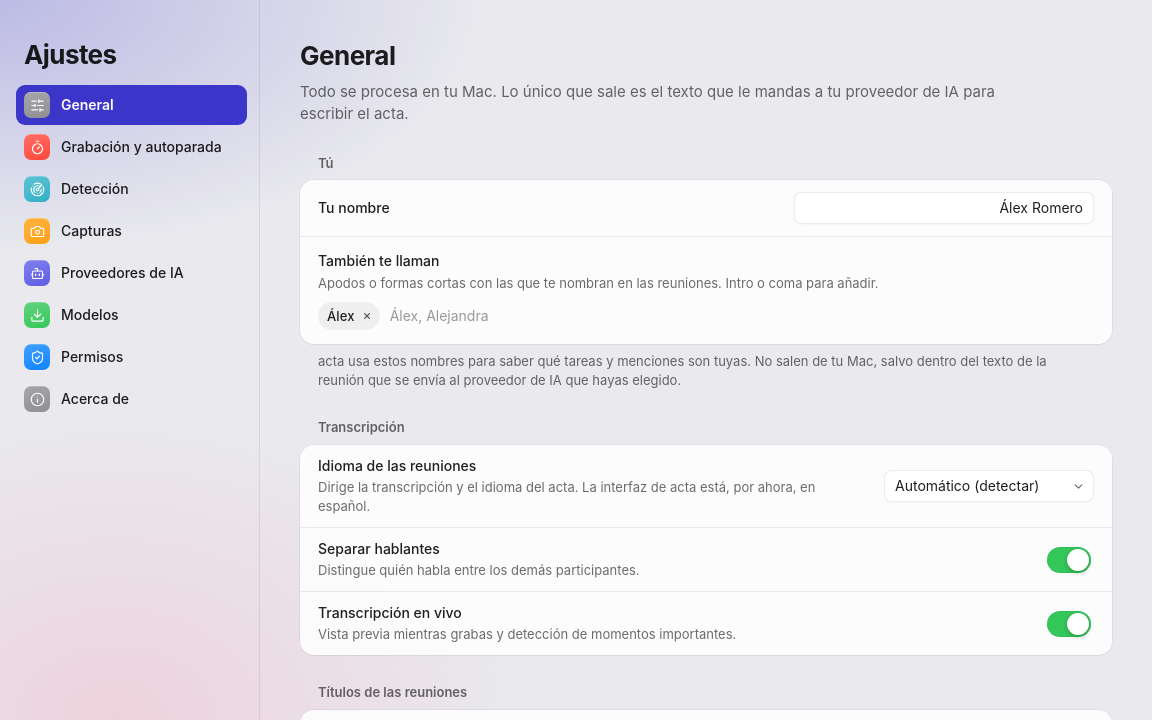
Test: SettingsContainer › la barra de guardado solo aparece cuando hay cambios
The image size is (1152, 720).
Click the button "Capturas" at (132, 231), box [16, 211, 247, 251]
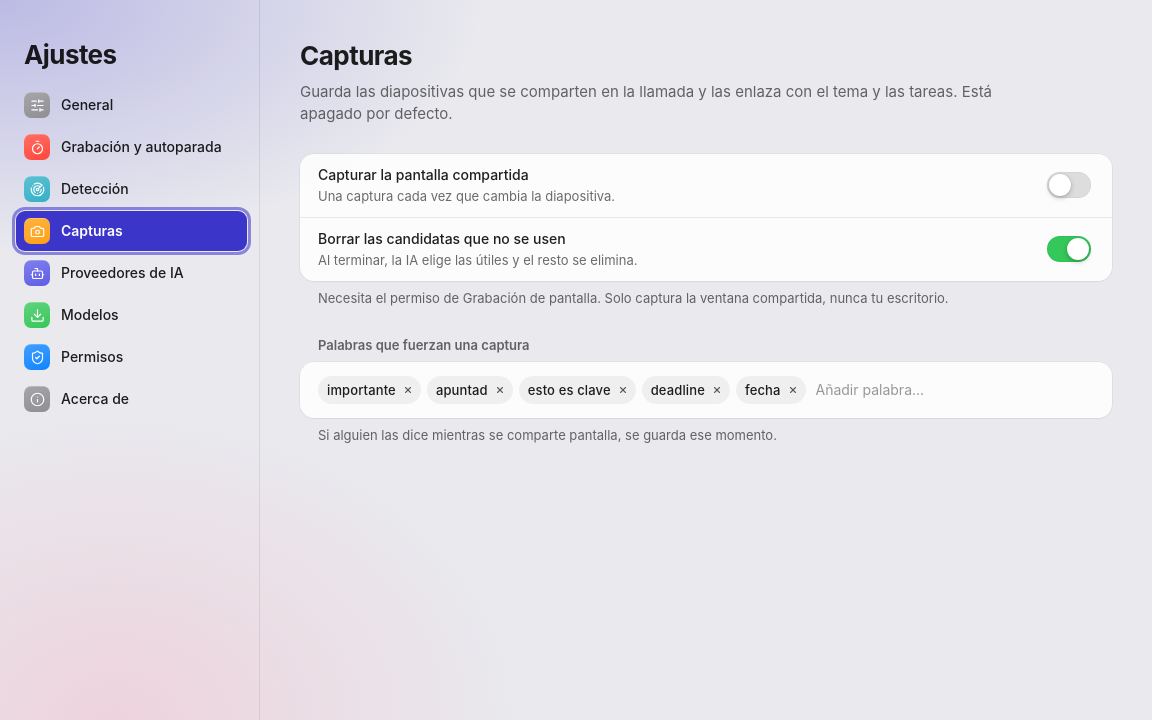
Expected: the button "Guardar cambios" is not shown
Click the checkbox labelled "Capturar la pantalla compartida" at (1069, 185), box [1047, 172, 1091, 198]
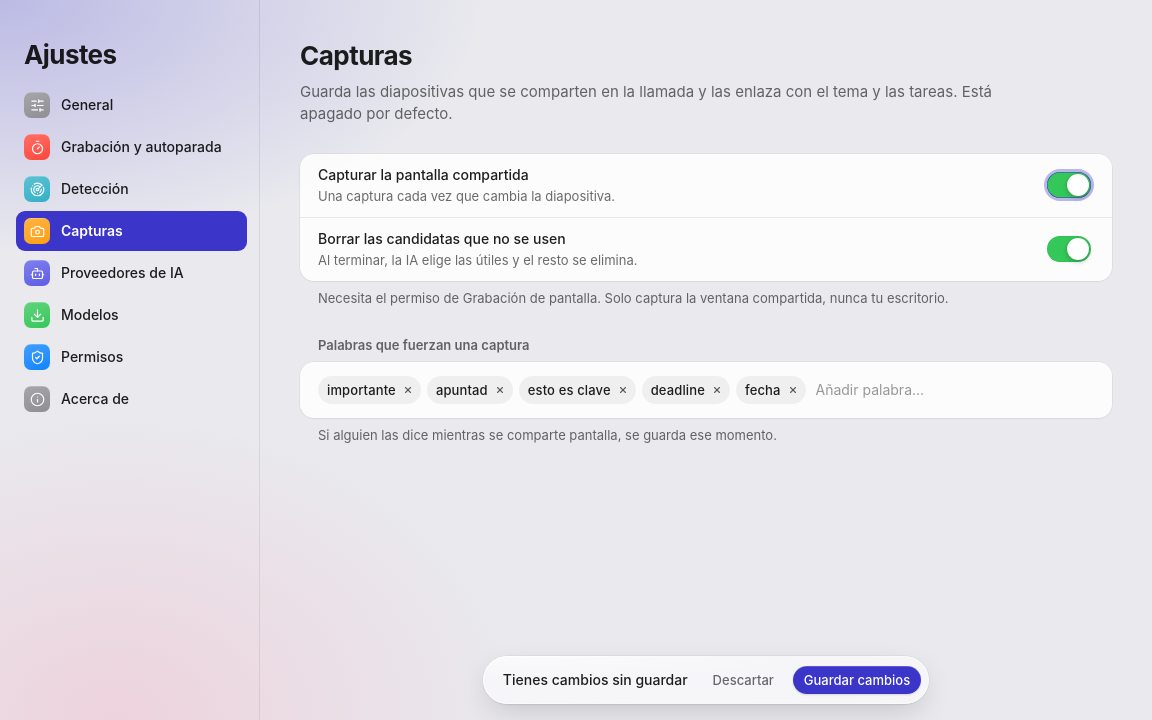
Now the text "Tienes cambios sin guardar" is shown, box [503, 670, 688, 690]
Click the button "Descartar" at (743, 680), box [702, 666, 785, 694]
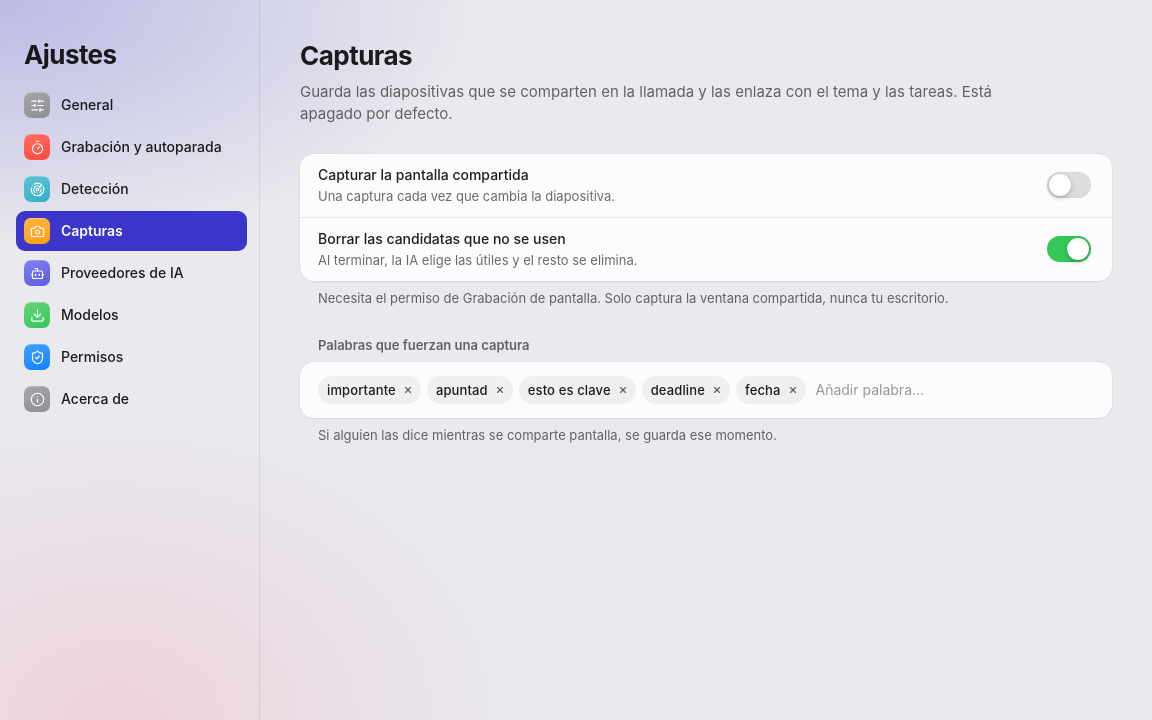
Now the checkbox labelled "Capturar la pantalla compartida" is not checked, box [1047, 172, 1091, 198]
Now the button "Guardar cambios" is gone
